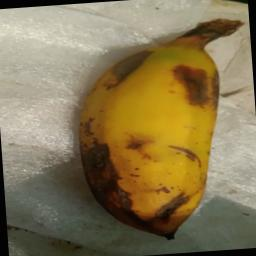Banana Overripe: (64, 12, 256, 246)
